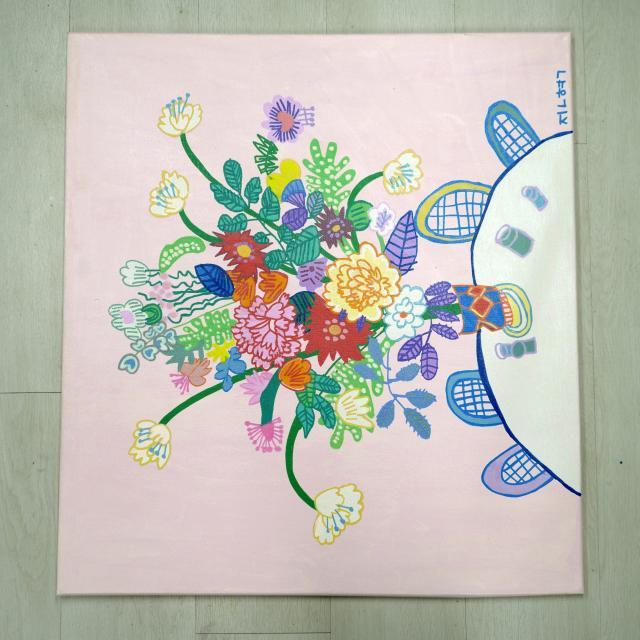painting: (57, 33, 583, 596)
